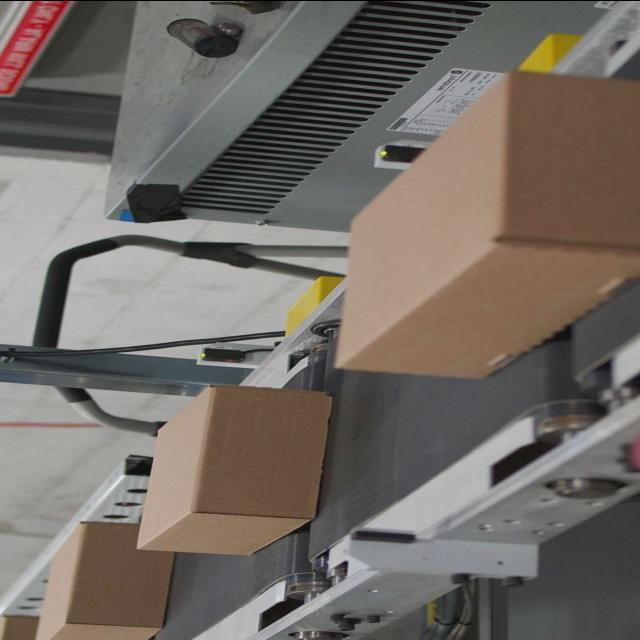food: (332, 68, 638, 380), (133, 382, 335, 556)
